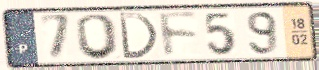5: (205, 11, 240, 57)
7: (38, 14, 73, 63)
9: (245, 10, 281, 56)
D: (116, 11, 160, 61)
F: (156, 10, 201, 60)
O: (75, 12, 122, 61)
